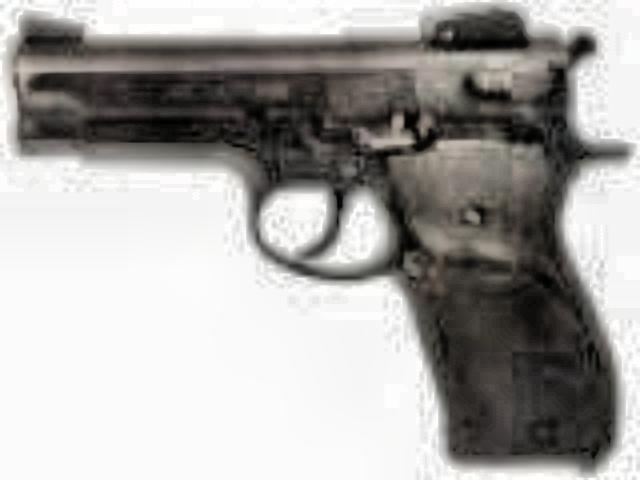pistol: (8, 4, 604, 460)
